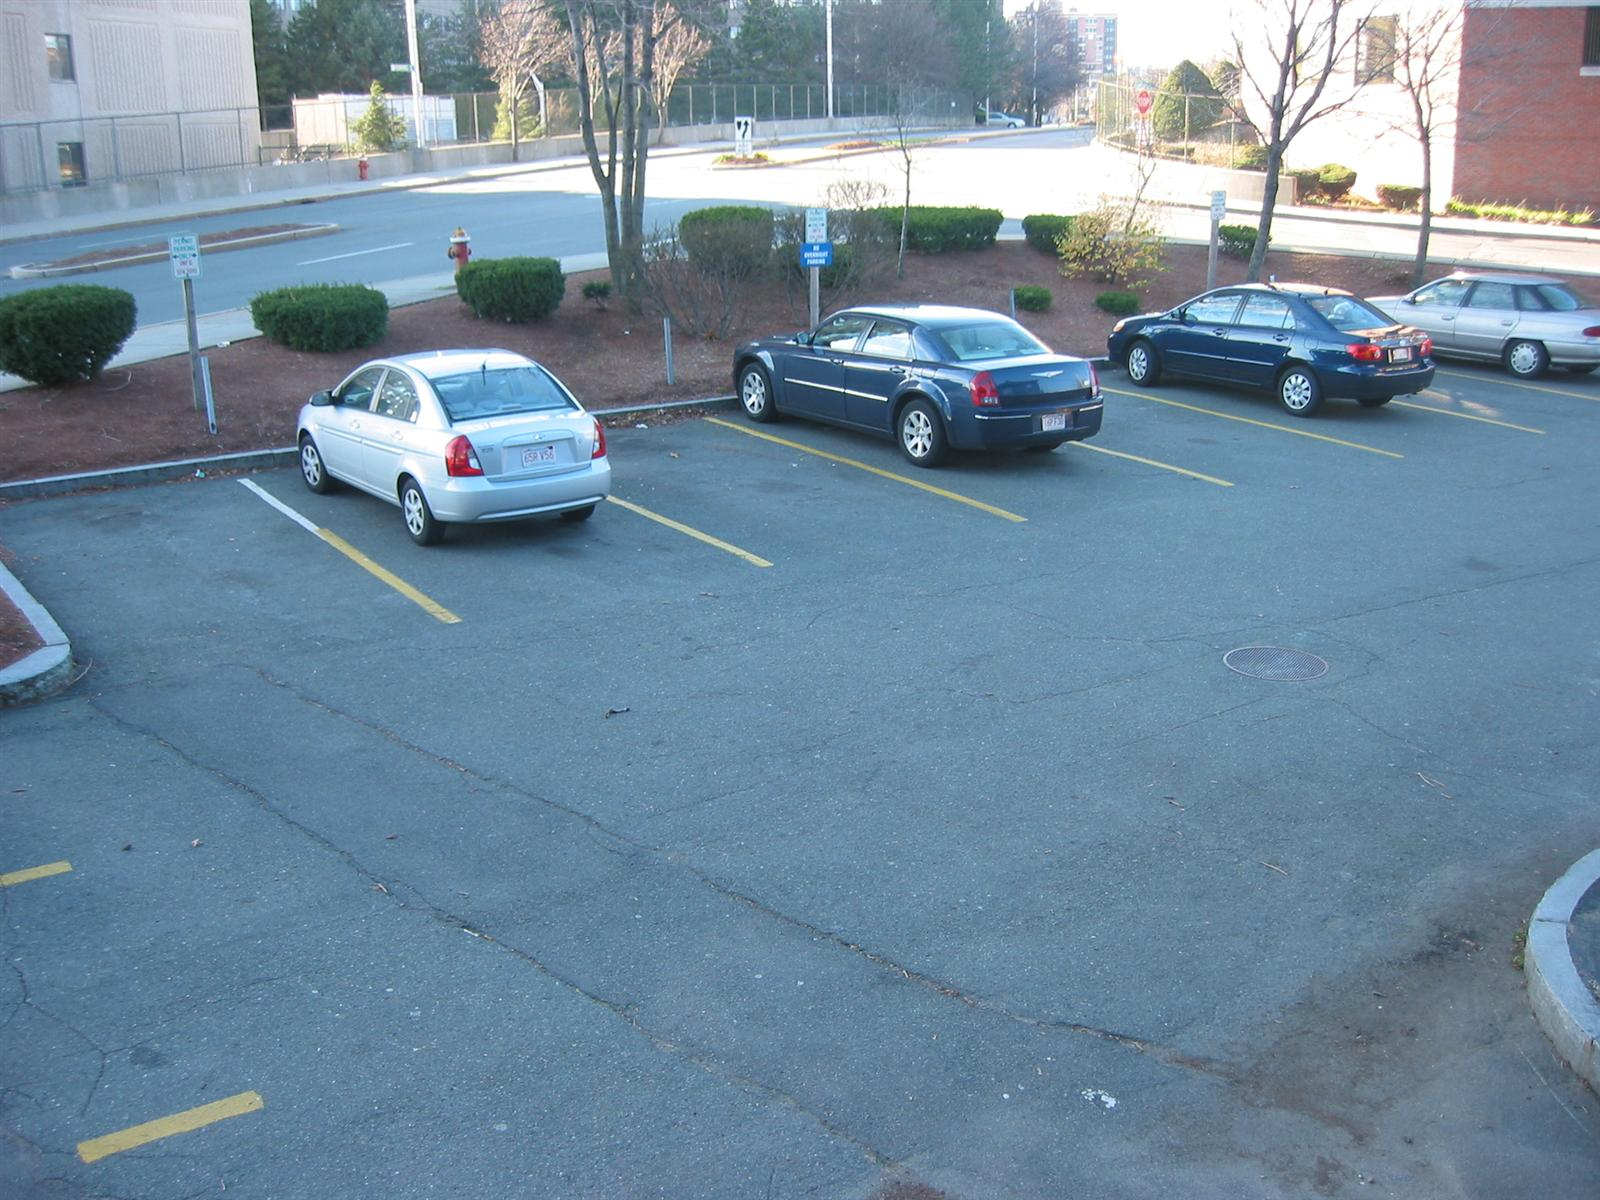empyt_space: (1, 453, 469, 637), (606, 397, 1034, 568), (1107, 377, 1412, 492), (1429, 362, 1600, 444)
